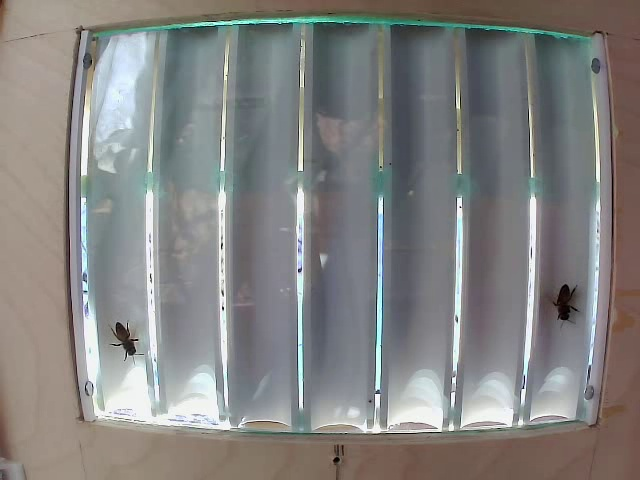bee: (540, 278, 569, 323), (108, 315, 143, 351)
